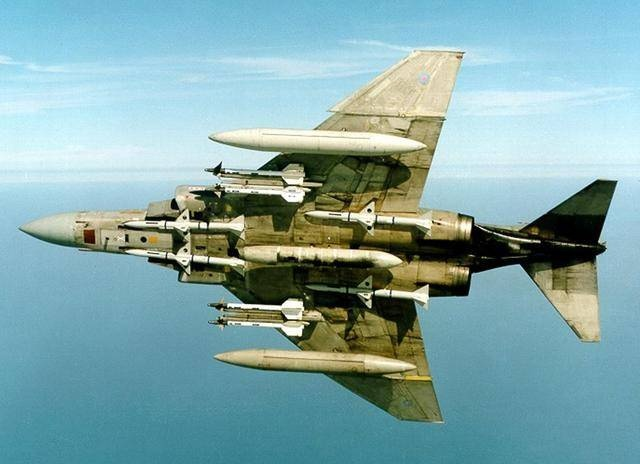airplane: (13, 42, 623, 426)
